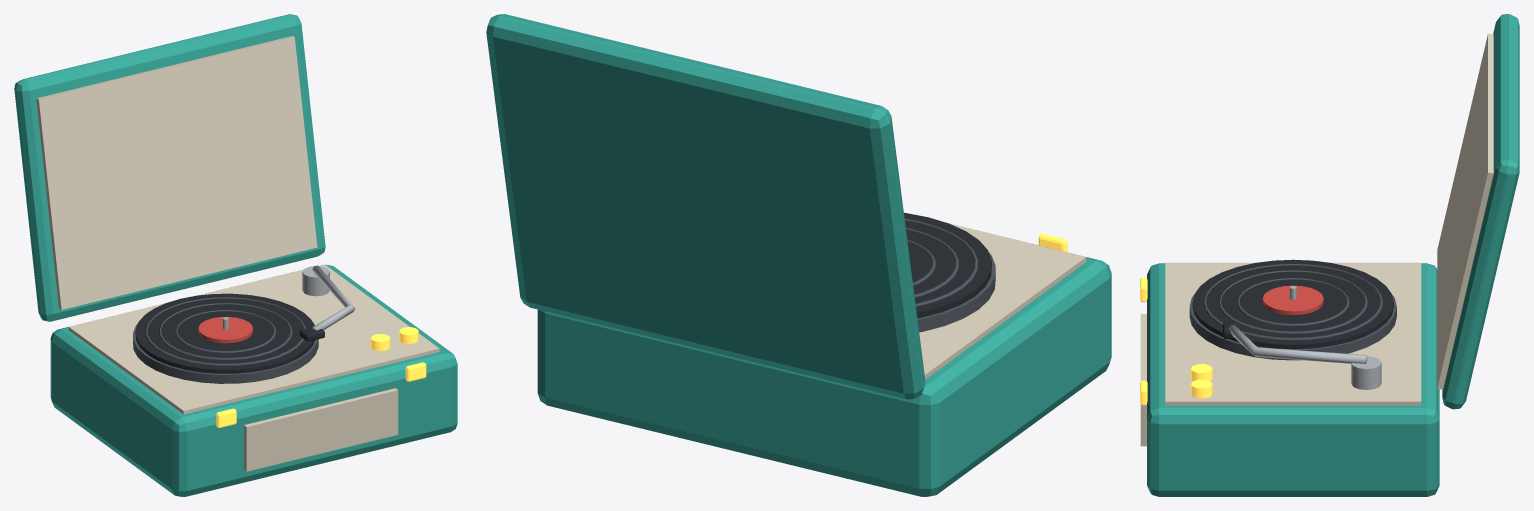
The model's file is vitrola.glb.
3 views of the same model, side by side, from view 1: azimuth 30°, elevation 25°; view 2: azimuth 150°, elevation 25°; view 3: azimuth 270°, elevation 25° (orthographic). The views are drawn at different scales.
Visible parts, largest first — view 1: vitrola; view 2: vitrola; view 3: vitrola.
Part boxes in pixels (box(x1,y1,x2,y2)): vitrola: box(14, 14, 457, 496); vitrola: box(486, 14, 1111, 496); vitrola: box(1140, 14, 1519, 496).
Size of the model in its own units: 0.6 by 0.6104 by 0.6225.
